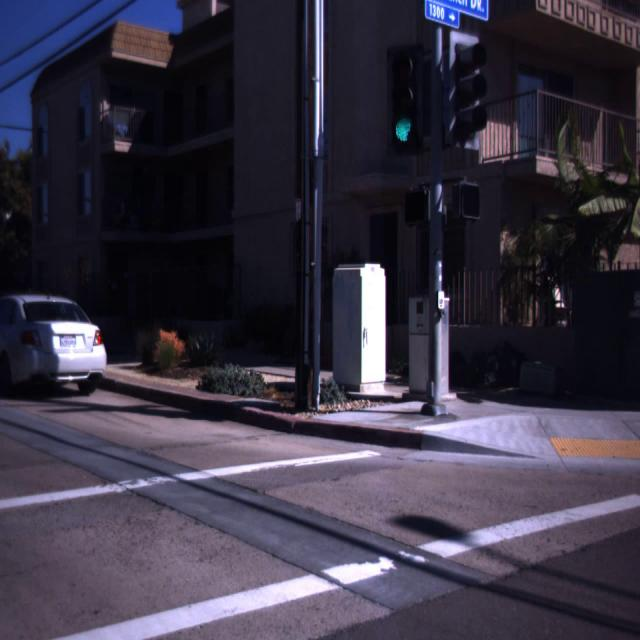yesil: (386, 45, 425, 155)
